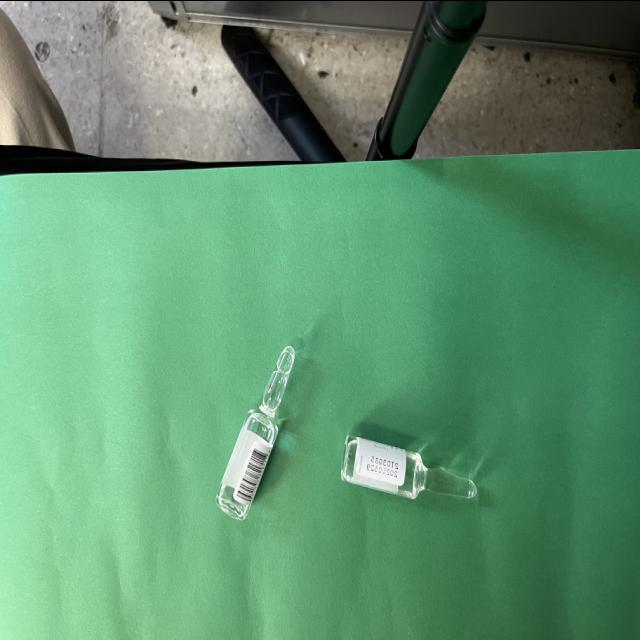Ampoules: (217, 345, 295, 519), (341, 435, 478, 498)
